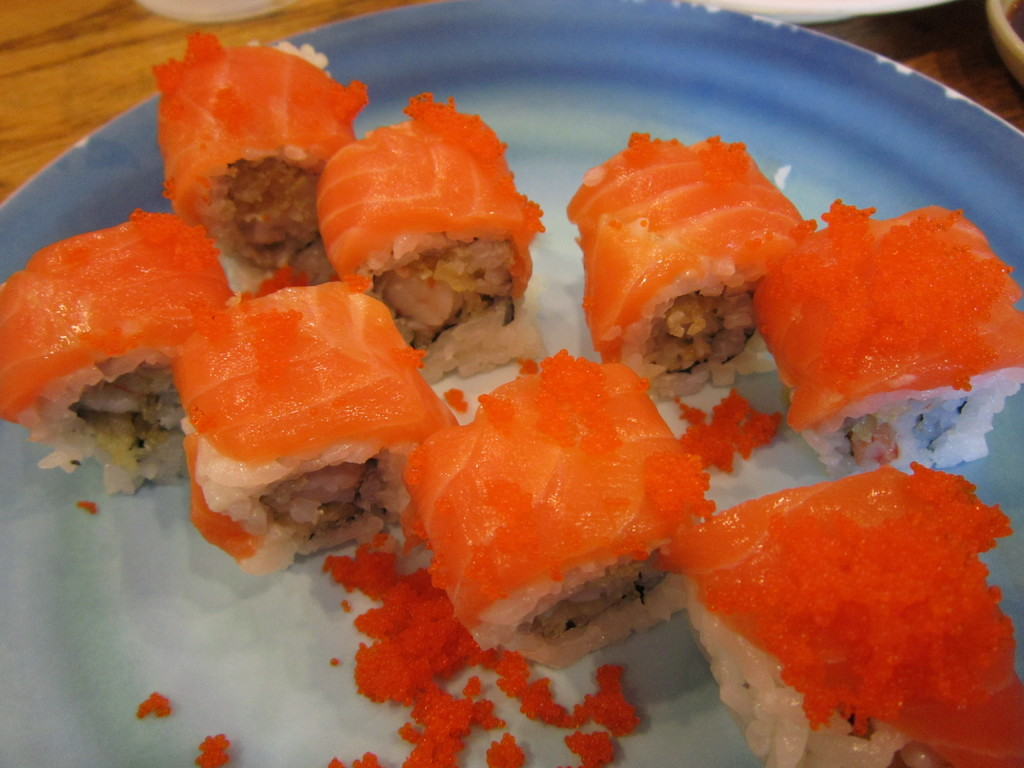sushi: (0, 38, 1023, 767), (396, 348, 707, 663)
